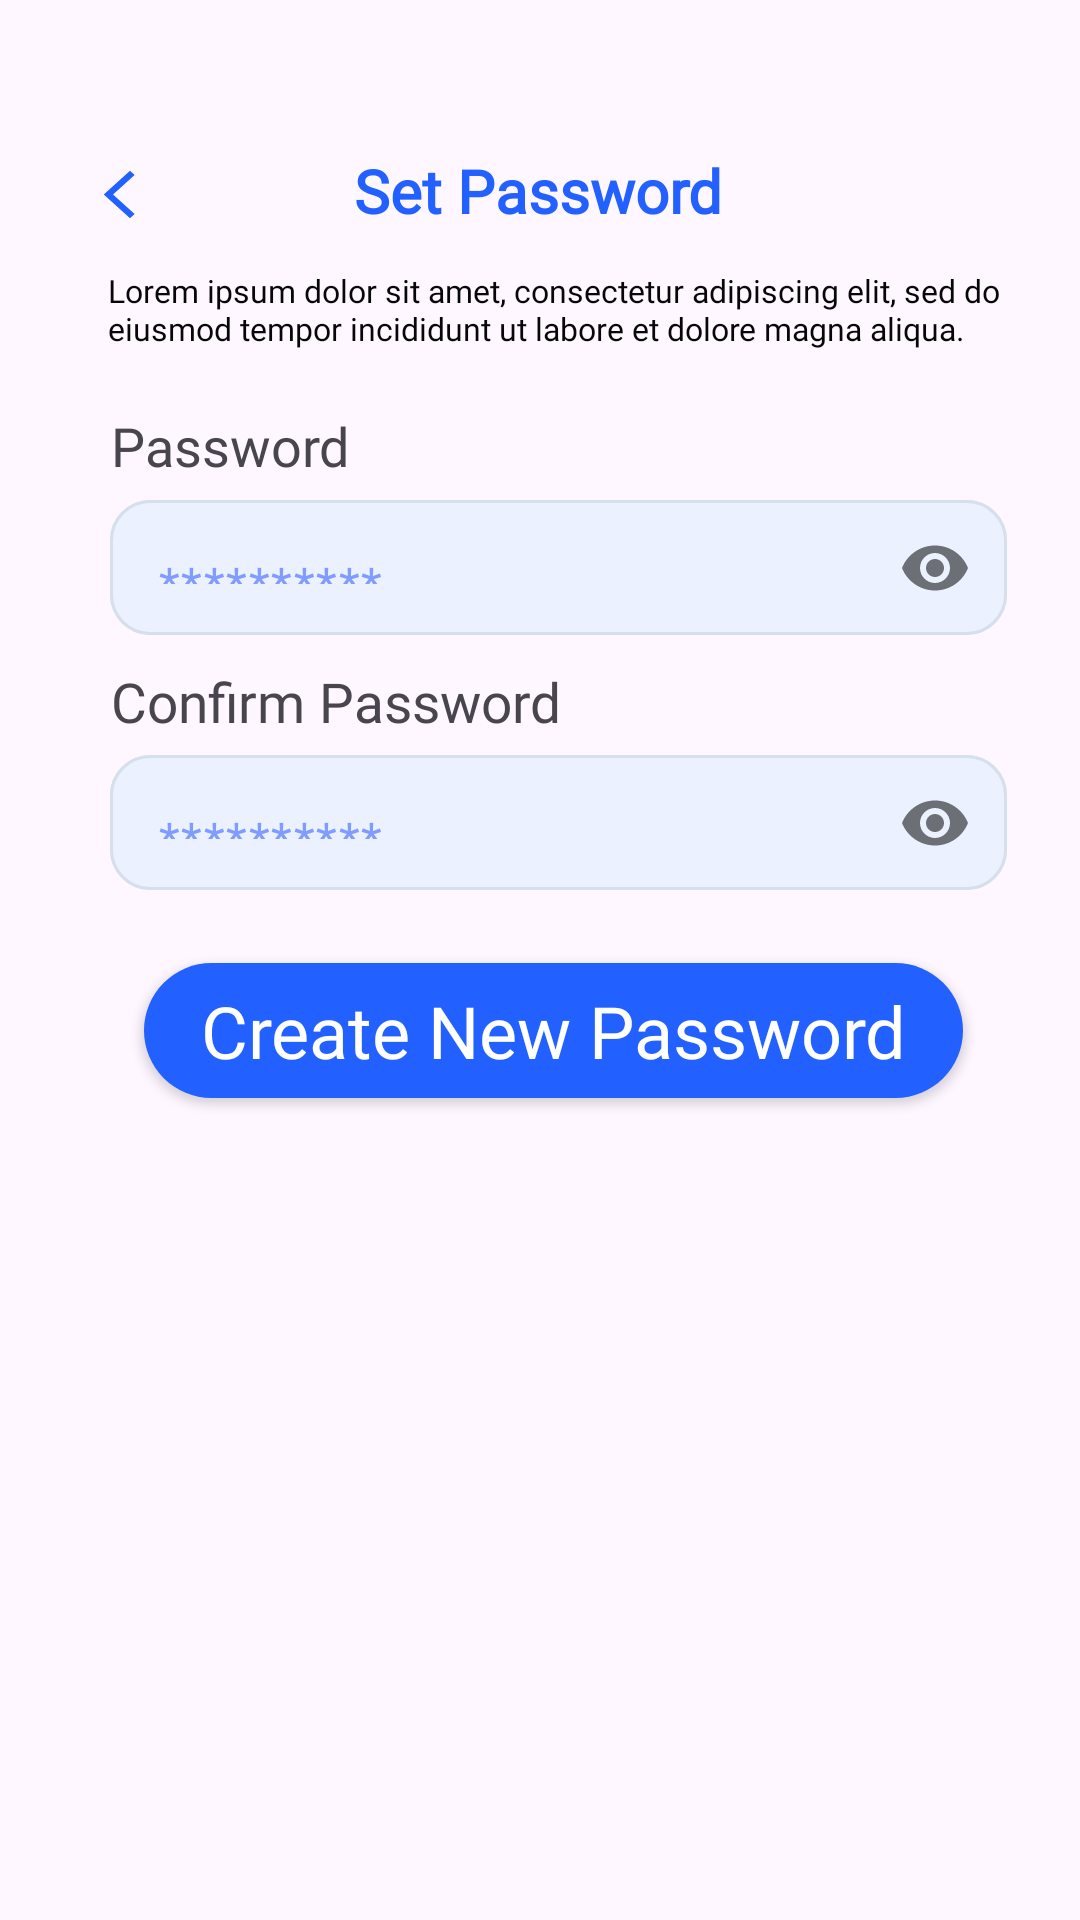

Icons on this 1080x1920 Android screen, each with its box as BBox(x1, y1, x2, y2):
navigation back: BBox(104, 171, 135, 218)
